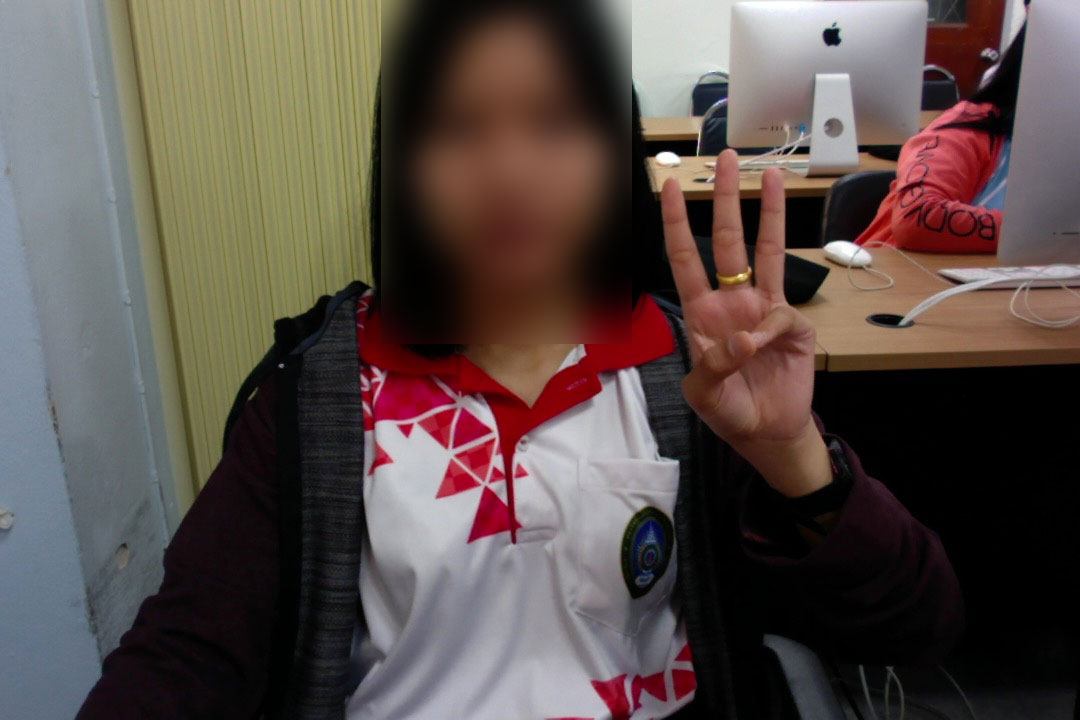wor: (651, 143, 823, 449)
